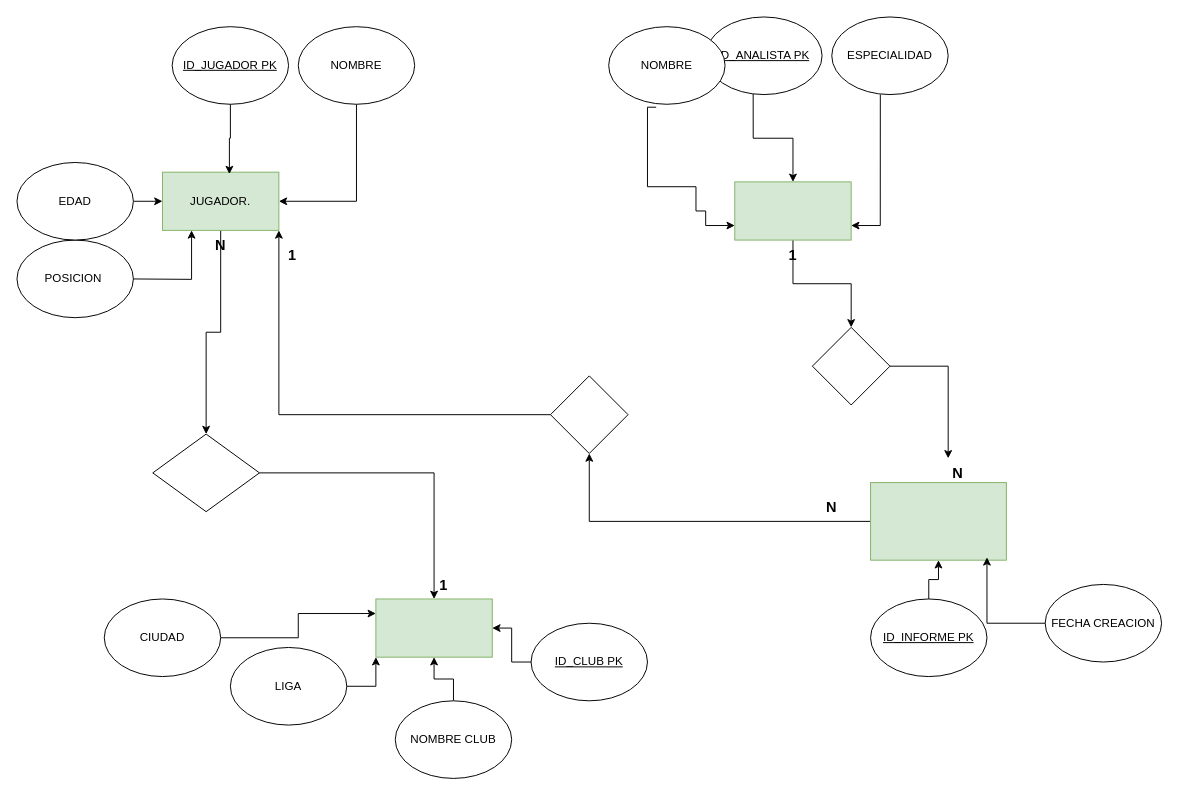
This 1179x795 diagram has some shape labels left out. The shapes that lost their labels are listed below. From the top down, each one's centre as x and y in pixels, then its label:
At (x=792, y=210): "ANALISTA".
At (x=850, y=365): "DISEÑA".
At (x=589, y=414): "ANALIZA".
At (x=205, y=472): "FORMA PARTE".
At (x=938, y=521): "INFORME_VIDEO".
At (x=433, y=627): "CLUB".
